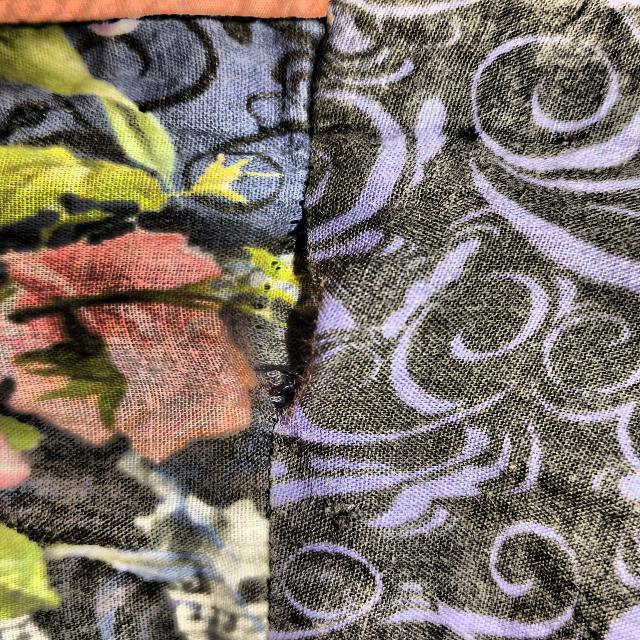seam: (237, 166, 378, 464)
